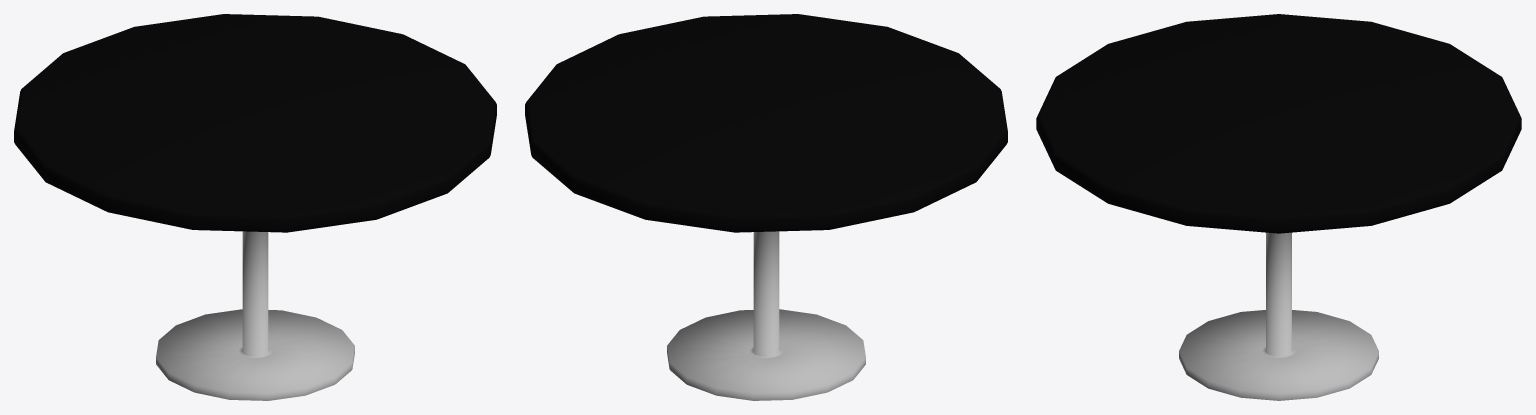
File: RoundTable.fbx
3 views of the same model, side by side, from view 1: azimuth 30°, elevation 25°; view 2: azimuth 150°, elevation 25°; view 3: azimuth 270°, elevation 25° (orthographic).
Visible parts, largest first — view 1: Cylinder; view 2: Cylinder; view 3: Cylinder.
Part boxes in pixels (left/top/right/bottom): Cylinder: left=14, top=14, right=496, bottom=400; Cylinder: left=525, top=14, right=1007, bottom=400; Cylinder: left=1036, top=14, right=1521, bottom=400.
Bounding box in the file's own units: 1.5 × 0.8306 × 1.5.
Materials: 1 (1 with a texture image).
